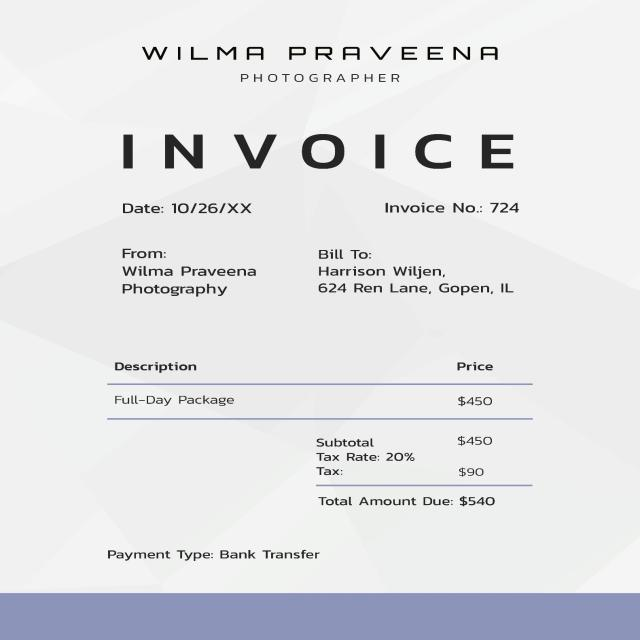paragraph: (104, 343, 518, 413), (110, 118, 526, 176), (306, 424, 518, 516), (130, 36, 518, 86), (307, 238, 526, 303), (99, 235, 270, 300), (376, 191, 534, 221), (113, 194, 264, 223), (104, 544, 326, 563)
